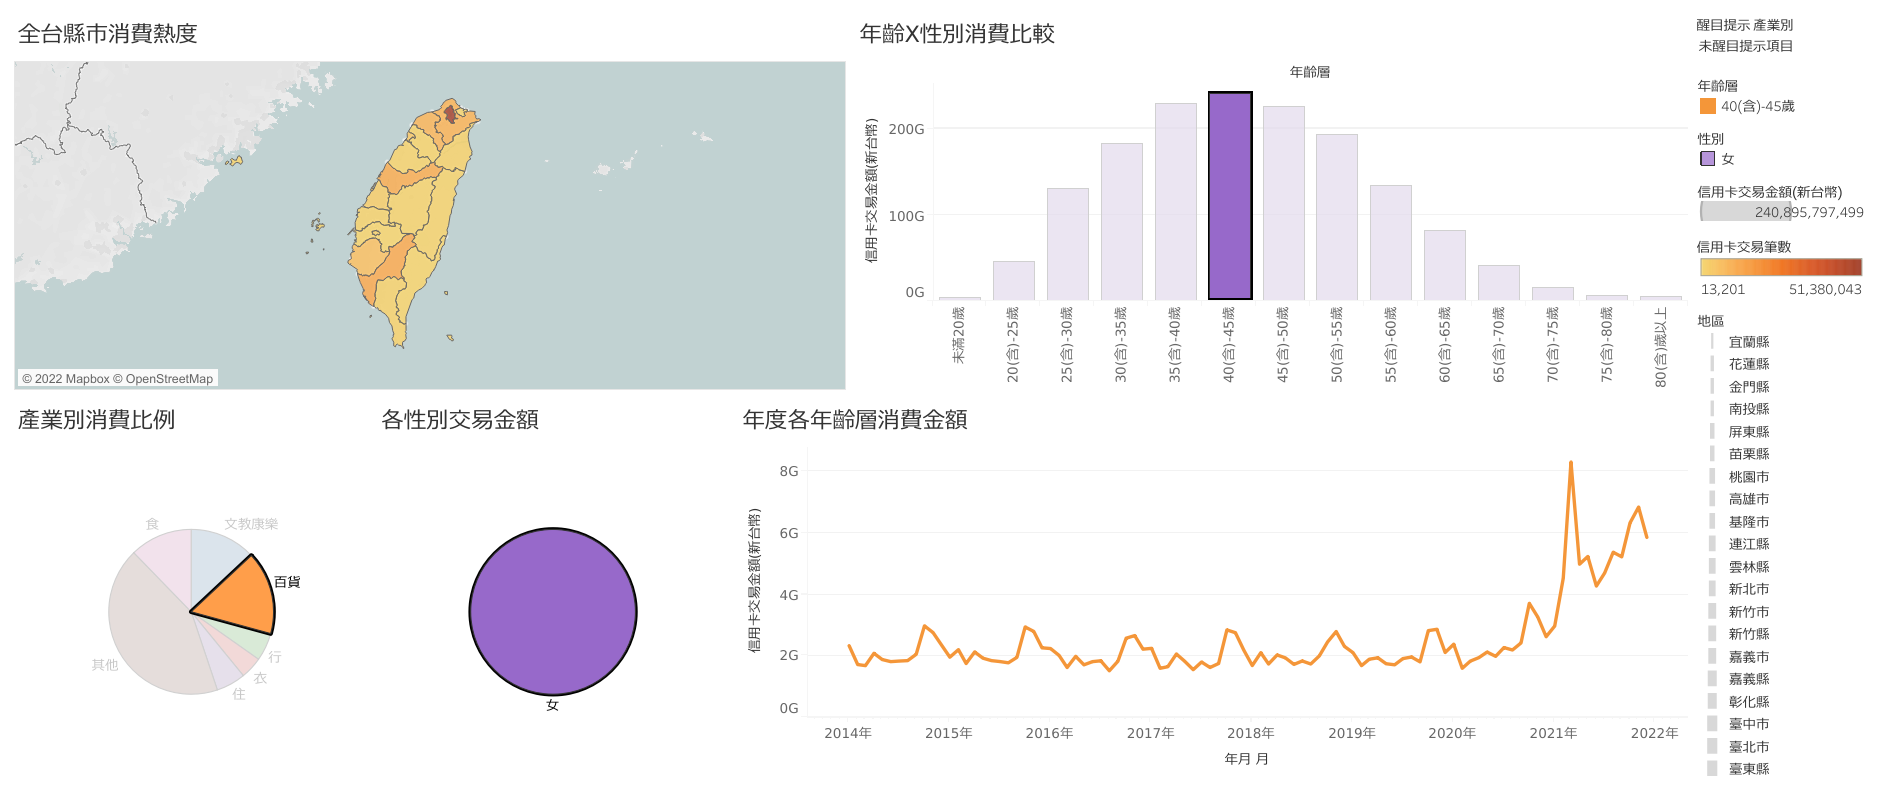

The page's visual inventory and layout, read from the dashboard file:
{"tool":"tableau","page":{"name":"儀表板窗格 1","canvas":[1000,1000],"units":"permille","ordinal":0},"visuals":[{"type":"worksheet","title":"全台縣市消費熱度","mark":"Multipolygon","box":[4.8,9.4,446.9,490.6]},{"type":"worksheet","title":"年齡X性別消費比較","mark":"Automatic","rows":["信用卡交易金額(新台幣)"],"cols":["年齡層"],"box":[451.7,9.4,446.9,490.6]},{"type":"highlighter","title":"產業別消費比例","param":"[federated.0g2oetc1v2s88r16os5ns0wi0wuw].[none:產業別:nk]","box":[898.6,9.4,96.6,65.7]},{"type":"legend","title":"年度各年齡層消費金額","param":"[federated.0g2oetc1v2s88r16os5ns0wi0wuw].[none:年齡層:nk]","box":[898.6,75.1,96.6,342.7]},{"type":"legend","title":"年齡X性別消費比較","param":"[federated.0g2oetc1v2s88r16os5ns0wi0wuw].[none:性別:nk]","box":[898.6,417.8,96.6,84.5]},{"type":"worksheet","title":"產業別消費比例","mark":"Pie","box":[4.8,500,192.8,490.6]},{"type":"worksheet","title":"各性別交易金額","mark":"Pie","box":[197.6,500,192.2,490.6]},{"type":"worksheet","title":"年度各年齡層消費金額","mark":"Automatic","rows":["信用卡交易金額(新台幣)"],"cols":["年月"],"box":[389.8,500,508.8,490.6]},{"type":"legend","title":"各性別交易金額","param":"[federated.0g2oetc1v2s88r16os5ns0wi0wuw].[sum:信用卡交易金額(新台幣):qk]","box":[898.6,502.4,96.6,59.9]},{"type":"legend","title":"全台縣市消費熱度","param":"[federated.0g2oetc1v2s88r16os5ns0wi0wuw].[sum:信用卡交易金額(新台幣):qk]","box":[898.6,562.2,96.6,85.7]},{"type":"legend","title":"全台縣市消費熱度","param":"[federated.0g2oetc1v2s88r16os5ns0wi0wuw].[none:地區:nk]","box":[898.6,647.9,96.6,342.7]}]}

Visuals, with their boxes on the dashboard's canvas, which has no fixed pixel size, in thousandths of its width and height (x1, y1, x2, y2). These are canvas units, not pixel positions in the 1880x789 screenshot, which may show the page scaled, cropped or inside an application window:
"全台縣市消費熱度" worksheet (Multipolygon marks): [left=5, top=9, right=452, bottom=500]
"年齡X性別消費比較" worksheet: [left=452, top=9, right=899, bottom=500]
"產業別消費比例" highlighter: [left=899, top=9, right=995, bottom=75]
"年度各年齡層消費金額" legend: [left=899, top=75, right=995, bottom=418]
"年齡X性別消費比較" legend: [left=899, top=418, right=995, bottom=502]
"產業別消費比例" worksheet (Pie marks): [left=5, top=500, right=198, bottom=991]
"各性別交易金額" worksheet (Pie marks): [left=198, top=500, right=390, bottom=991]
"年度各年齡層消費金額" worksheet: [left=390, top=500, right=899, bottom=991]
"各性別交易金額" legend: [left=899, top=502, right=995, bottom=562]
"全台縣市消費熱度" legend: [left=899, top=562, right=995, bottom=648]
"全台縣市消費熱度" legend: [left=899, top=648, right=995, bottom=991]
